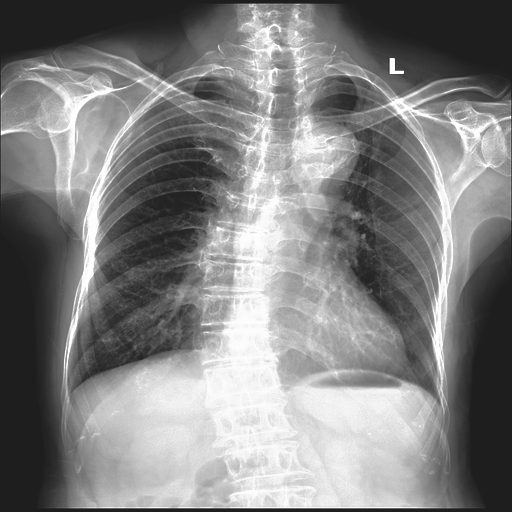Cardiomegaly: (68, 221, 166, 369)
Consolidation: (300, 120, 362, 212)
Other lesion: (196, 244, 287, 404)
